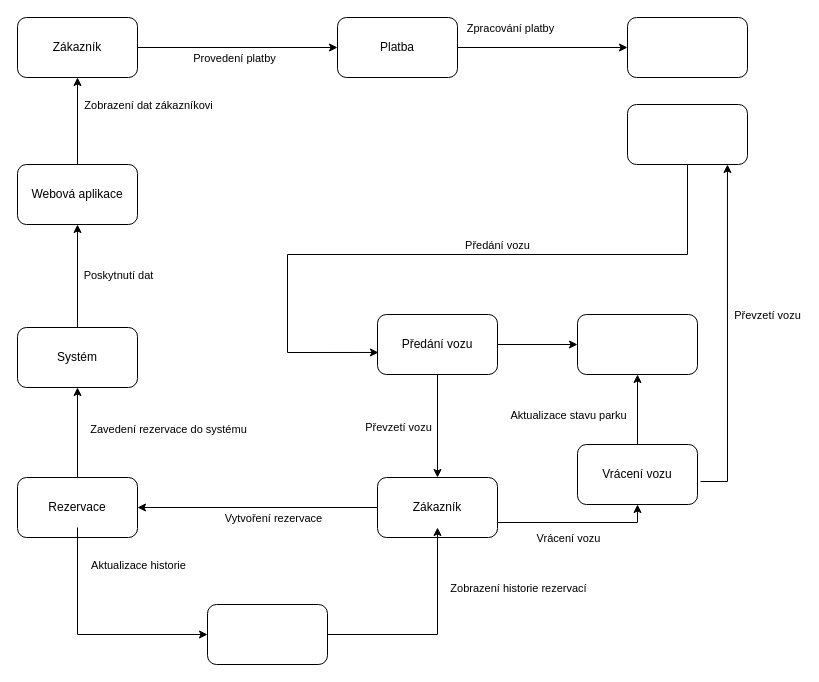
Some shapes in this 819 by 682 pixel diagram are drawn without their labels. Each missing label, with the box of its shape:
Historie rezervací: (206, 604, 328, 664)
Platební brána: (626, 16, 748, 78)
Sytém správy vozového parku: (576, 314, 698, 374)
Zaměstnanec: (626, 104, 748, 164)
